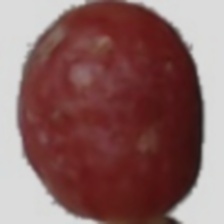grapes: (65, 55, 204, 197)
